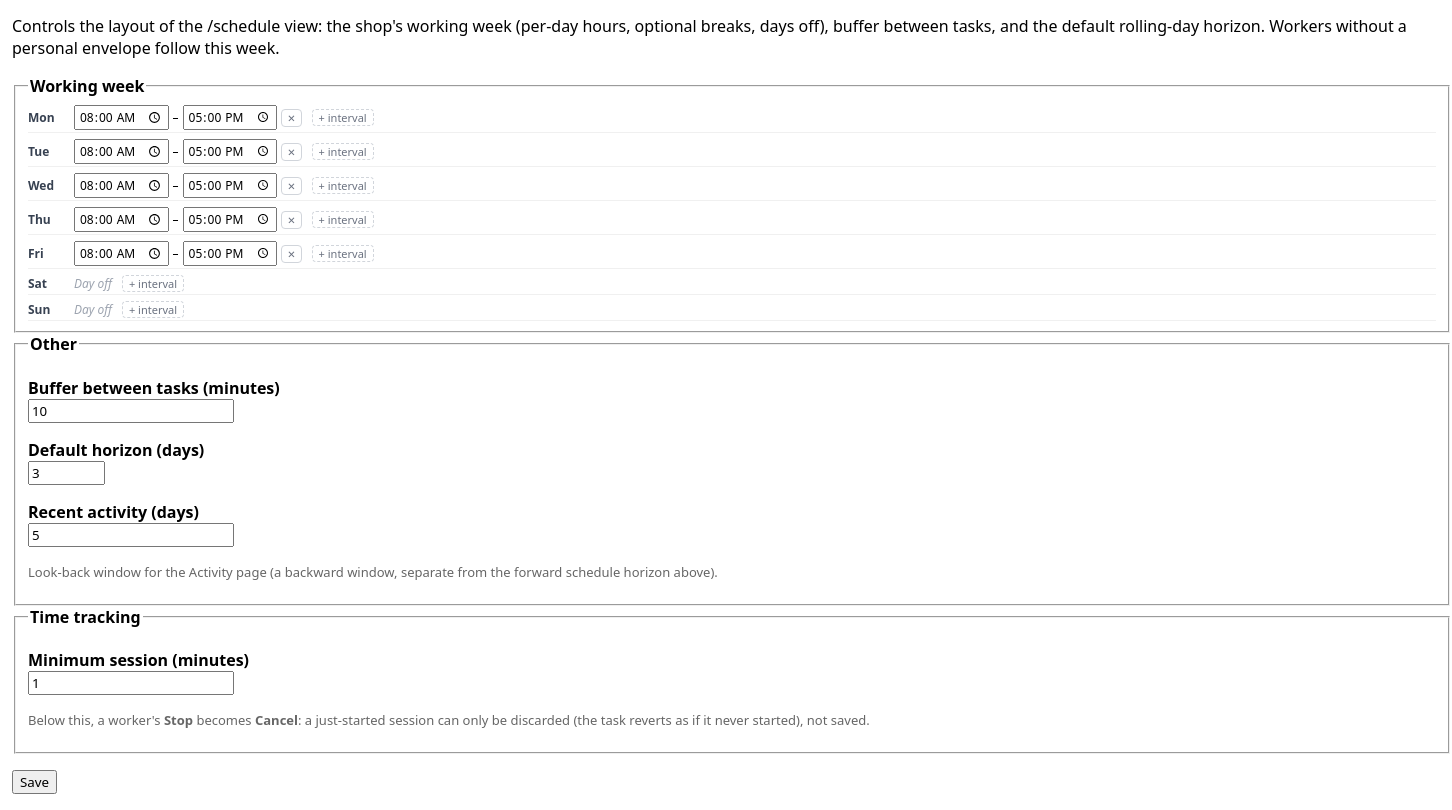
Test: ScheduleSettings › surfaces field errors from the server
The width and height of the screenshot is (1452, 810).
(page scrolled)
Click the button "Save". click: (35, 782)
box: [12,770,57,794]
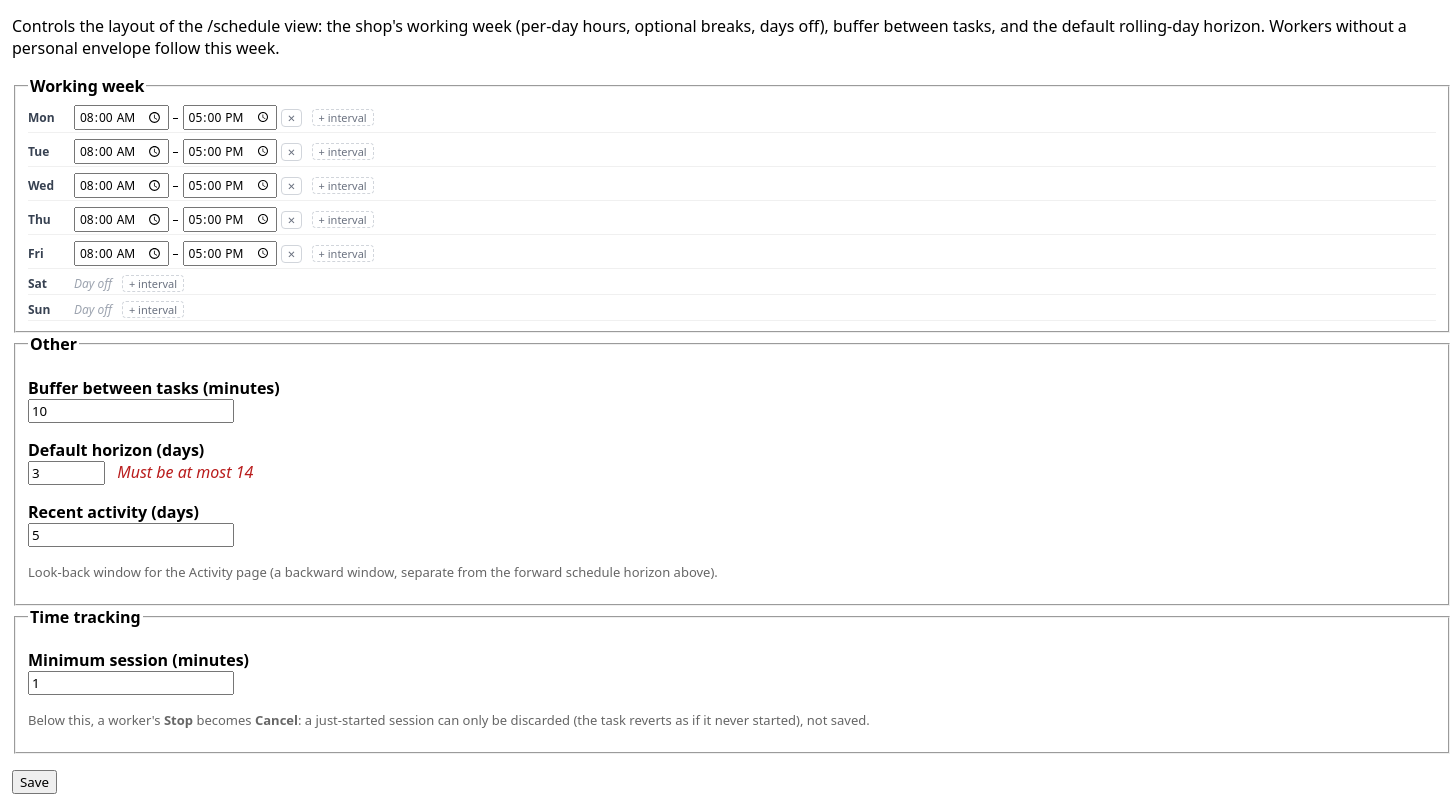
Now the text "Must be at most 14" is shown, box [117,461,253,483]
